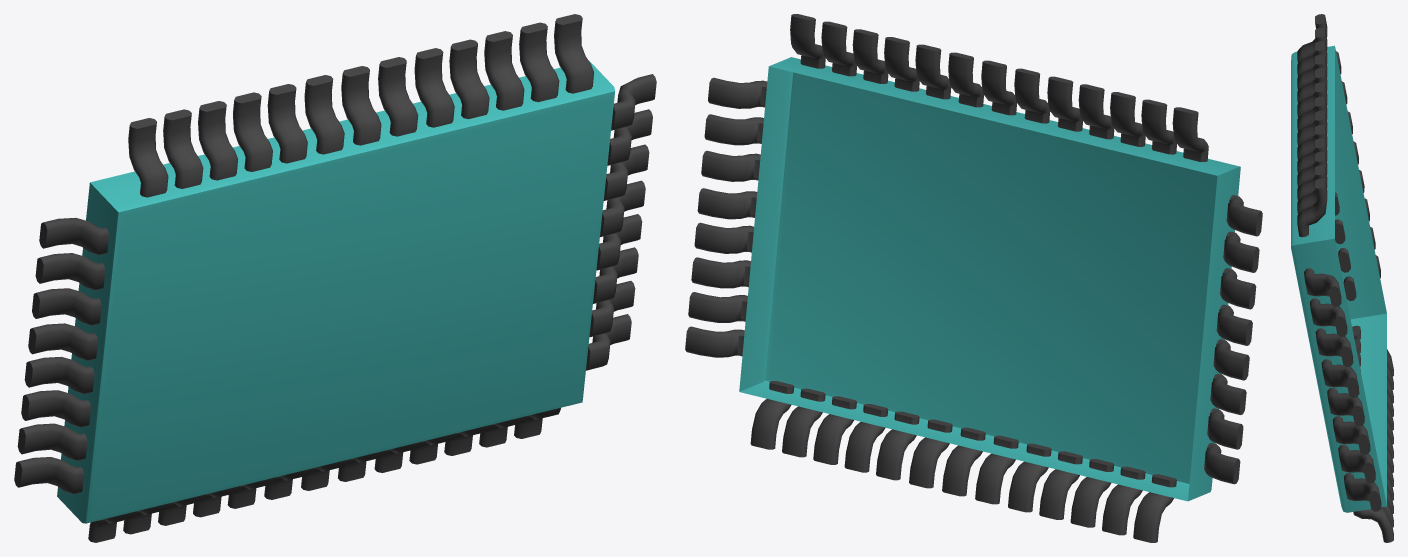
File: SM_MicroChip.fbx
3 views of the same model, side by side, from view 1: azimuth 30°, elevation 25°; view 2: azimuth 150°, elevation 25°; view 3: azimuth 270°, elevation 25° (orthographic). The views are drawn at different scales.
Visible parts, largest first — view 1: Microchip; view 2: Microchip; view 3: Microchip.
Boxes of the visible parts, <box> form: Microchip: <box>14,14,656,542</box>; Microchip: <box>685,14,1262,542</box>; Microchip: <box>1291,14,1393,542</box>.
Bounding box in the file's own units: 0.4246 × 0.2985 × 0.0783.
